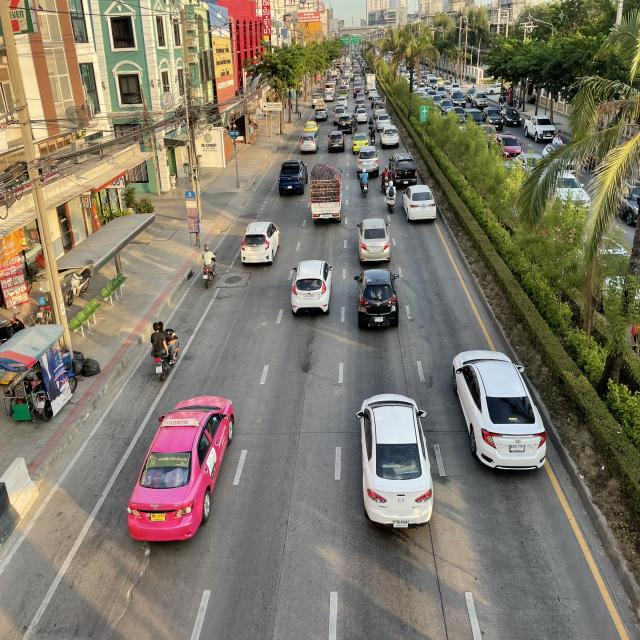bike: (145, 310, 183, 390), (197, 233, 220, 296), (358, 167, 371, 201), (385, 179, 397, 213), (378, 165, 392, 194)
car: (120, 383, 240, 550), (450, 329, 553, 478), (356, 386, 440, 529)
truck: (306, 158, 347, 227)
